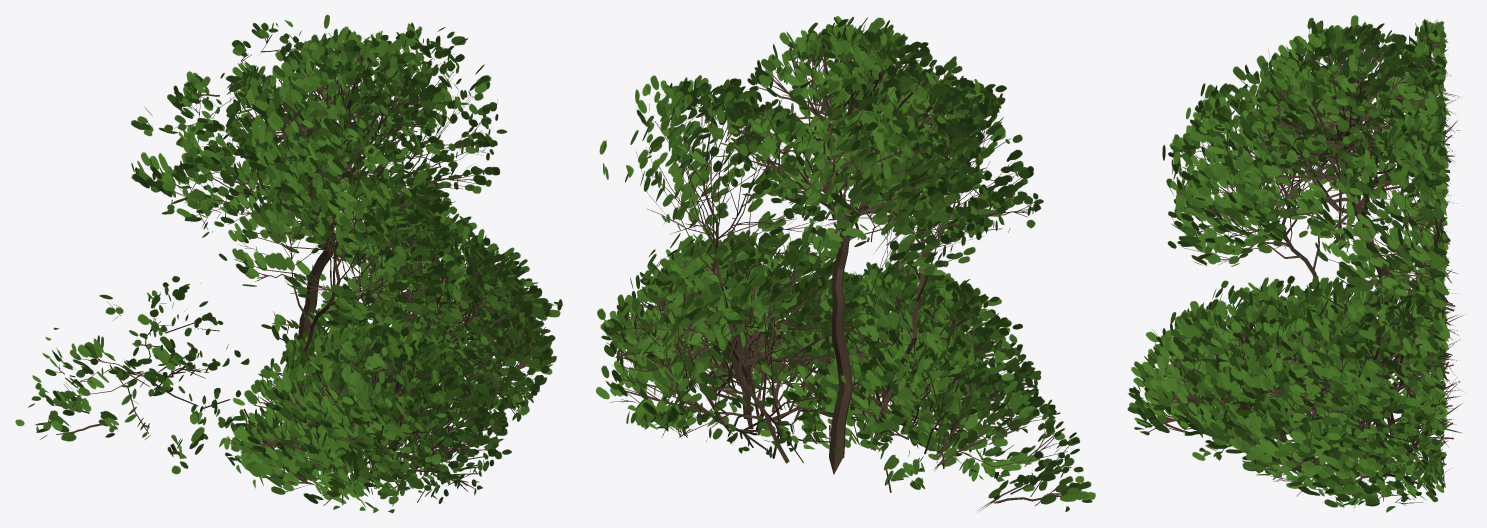
3 renders of one model, left to right at view 1: azimuth 30°, elevation 25°; view 2: azimuth 150°, elevation 25°; view 3: azimuth 270°, elevation 25°, orthographic. The views are drawn at different scales.
Visible parts, largest first — view 1: oak 01.001_trunk_Mat.001_0.388; view 2: oak 01.001_trunk_Mat.001_0.388; view 3: oak 01.001_trunk_Mat.001_0.388.
Part boxes in pixels (x1=…): oak 01.001_trunk_Mat.001_0.388: x1=15, y1=14, x2=562, y2=513; oak 01.001_trunk_Mat.001_0.388: x1=595, y1=16, x2=1095, y2=511; oak 01.001_trunk_Mat.001_0.388: x1=1127, y1=15, x2=1463, y2=512.
Size of the model in its own units: 6.32 by 5.11 by 3.84.
Materials: 2 (1 with a texture image).
